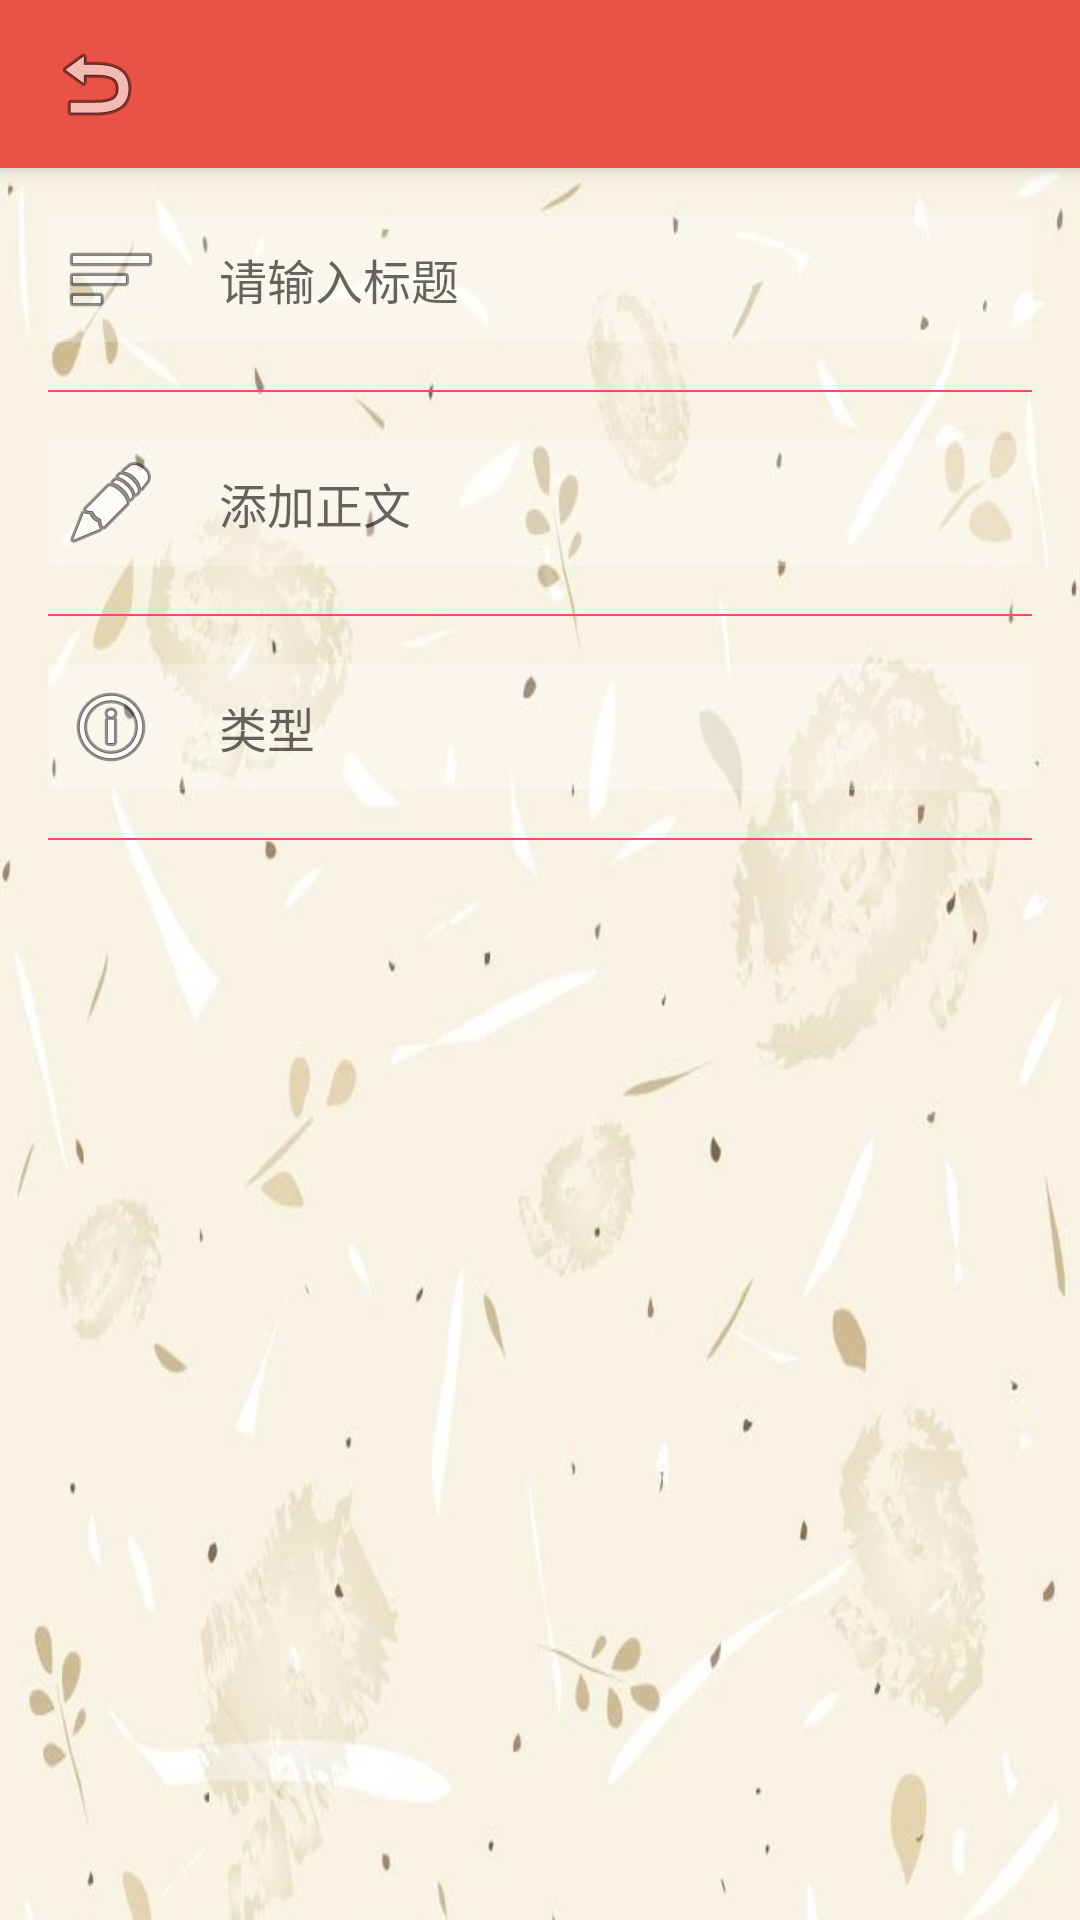

Icon bounding boxes for this 1080px x 1920px phone screenshot, format (x1, y1, x2, y2):
edit: (70, 455, 151, 543)
info details: (76, 692, 146, 762)
revert: (63, 53, 132, 116)
sort by size: (69, 247, 152, 308)
